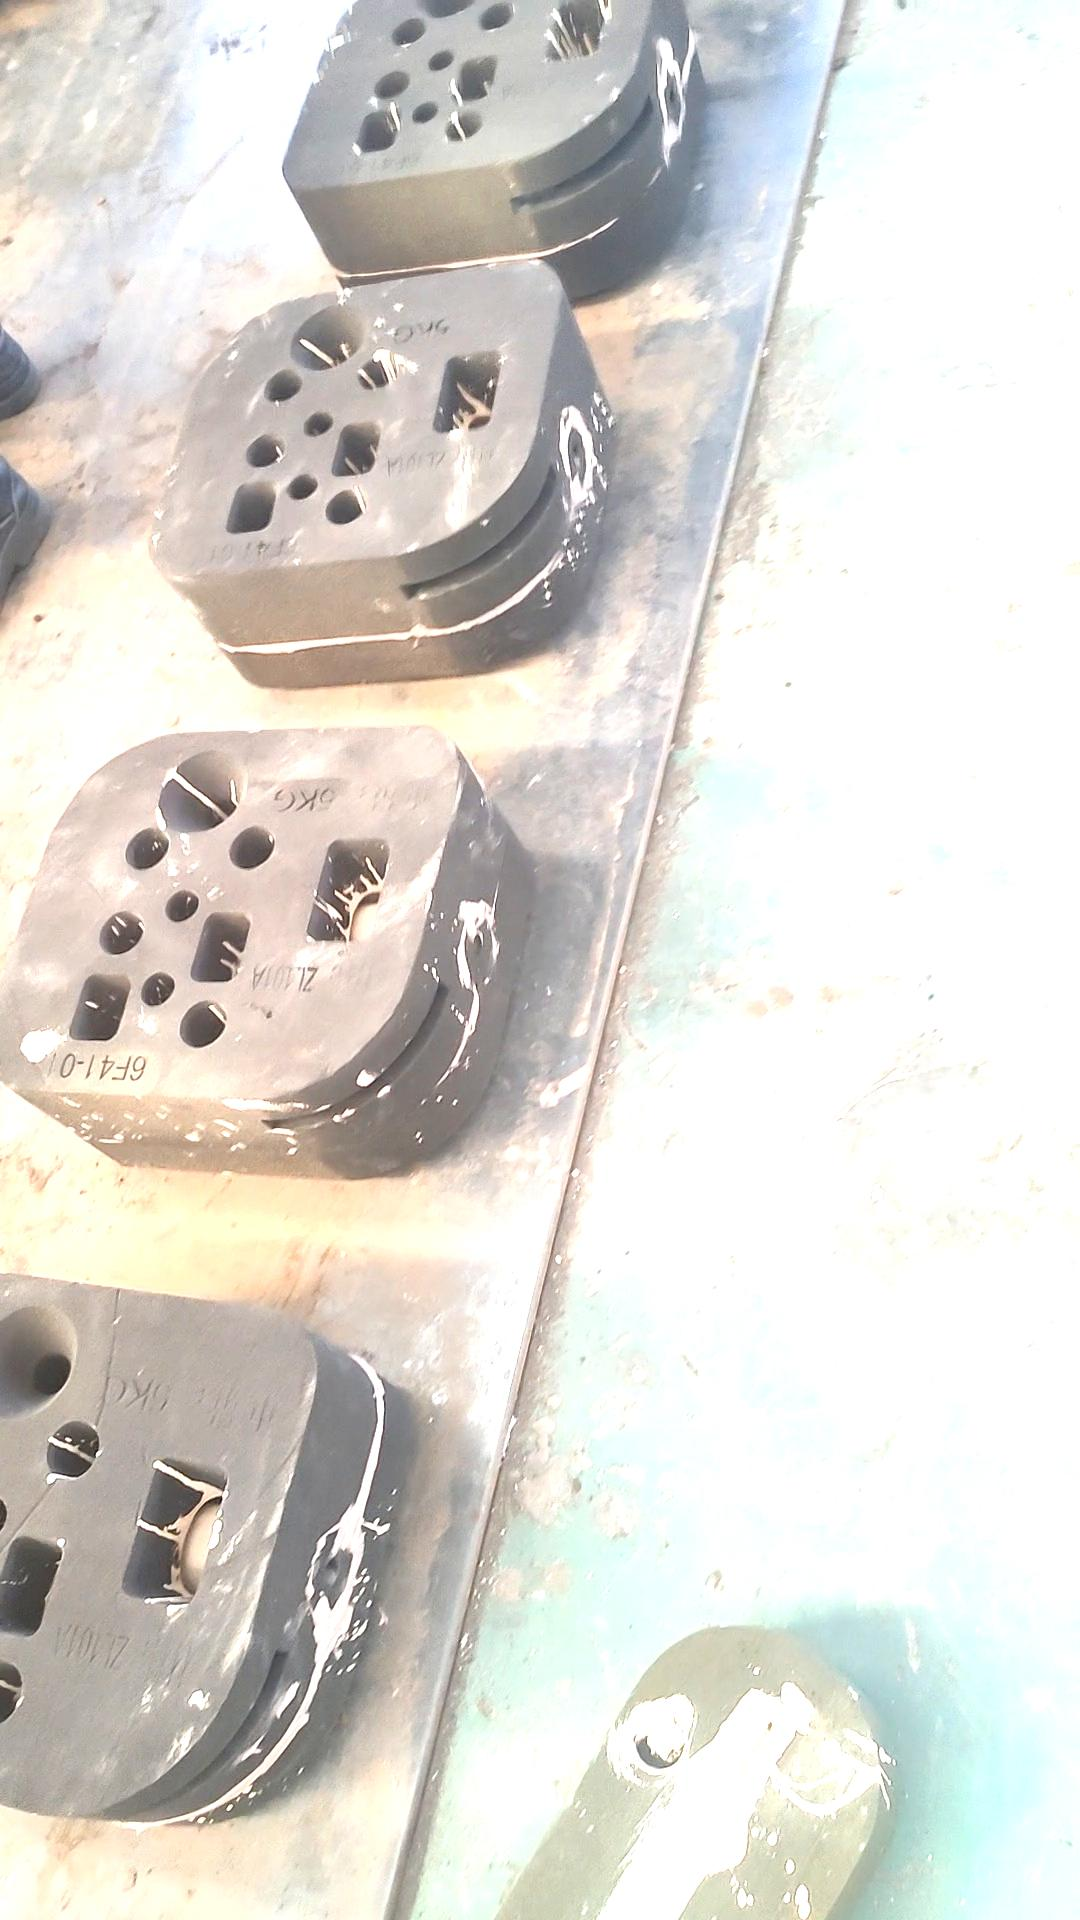pouring hole: (1, 1303, 80, 1425), (157, 746, 247, 831), (291, 305, 367, 371), (415, 1, 480, 17)
